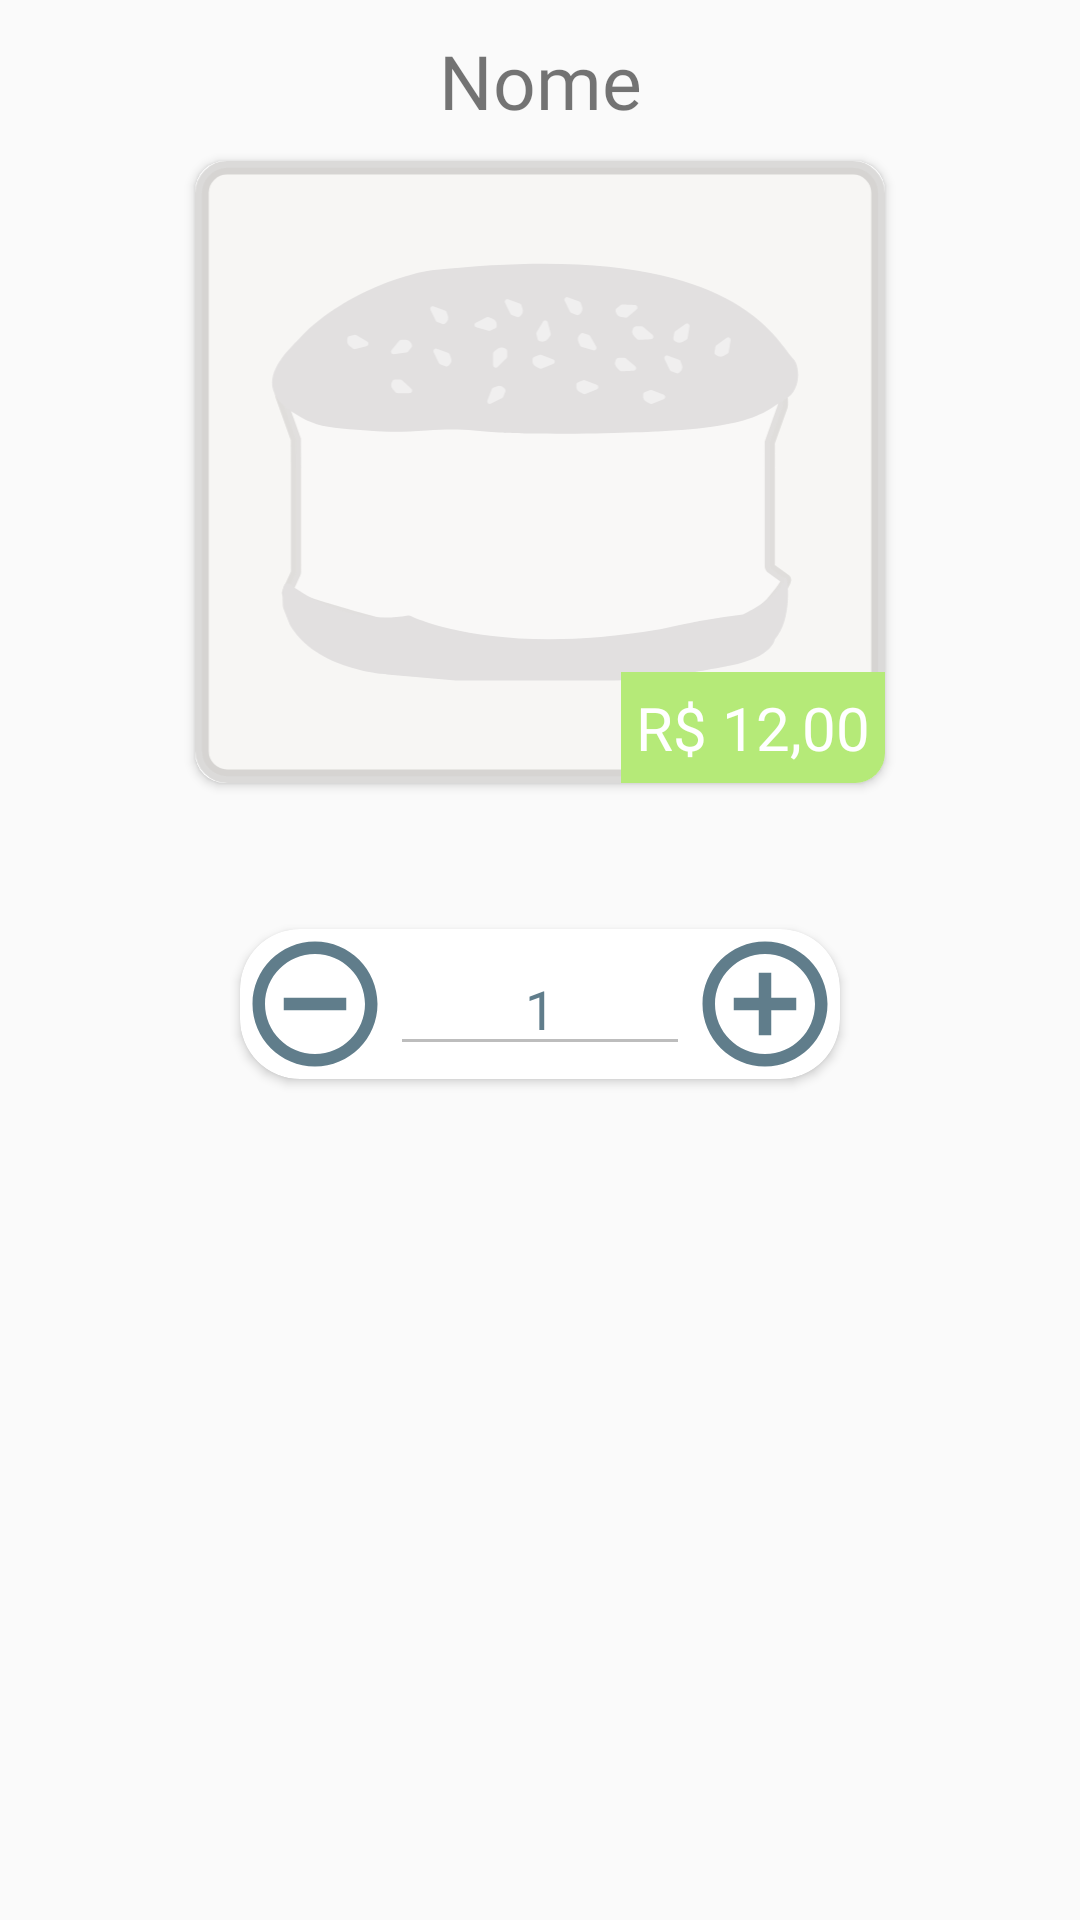

Icons on this 1080px x 1920px Android screen, each with the point to tap as [x,y]:
add circle: [765,1004]
remove circle: [315,1004]
